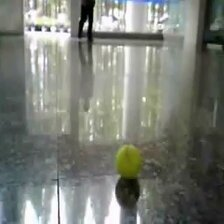tennis: (116, 144, 142, 175)
